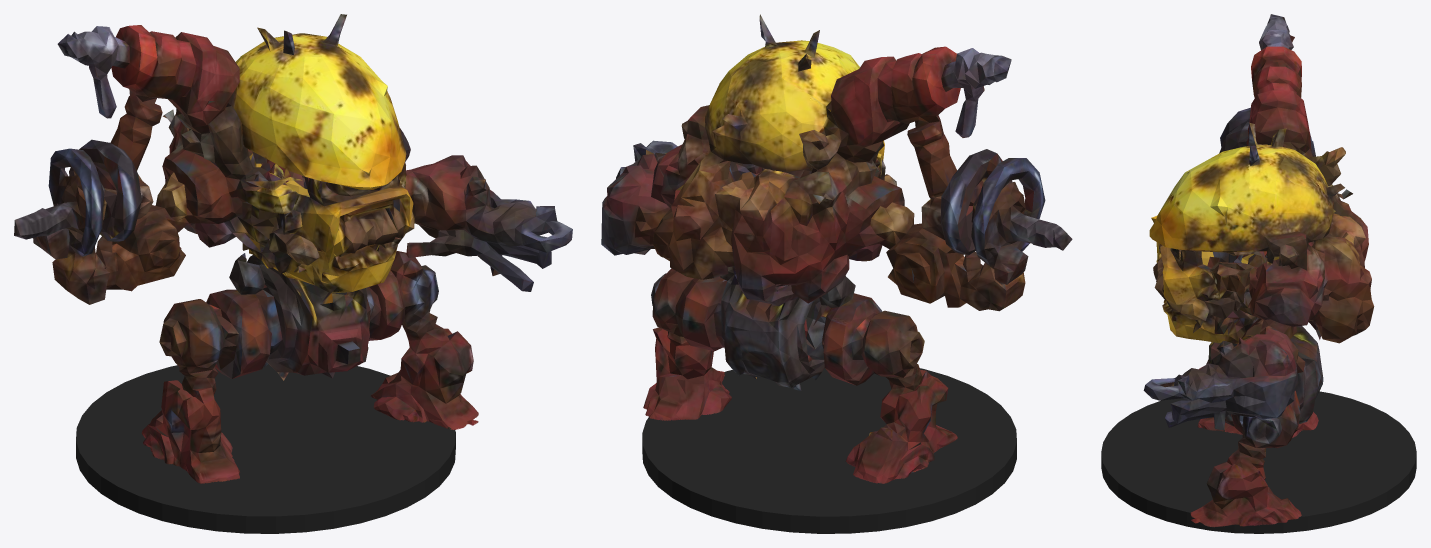
File: deff-dread.glb
3 renders of one model, left to right at view 1: azimuth 30°, elevation 25°; view 2: azimuth 150°, elevation 25°; view 3: azimuth 270°, elevation 25°, orthographic. The views are drawn at different scales.
Parts seen in each view (by area): view 1: figure, base; view 2: figure, base; view 3: figure, base.
Part boxes in pixels (x1,y1,x2,y2): figure: (14,14,572,483); base: (76,364,455,533); figure: (601,14,1072,483); base: (642,368,1016,533); figure: (1143,14,1374,527); base: (1101,391,1416,533).
Size of the model in its own units: 3.53 by 3.12 by 2.36.
Materials: 2 (1 with a texture image).
